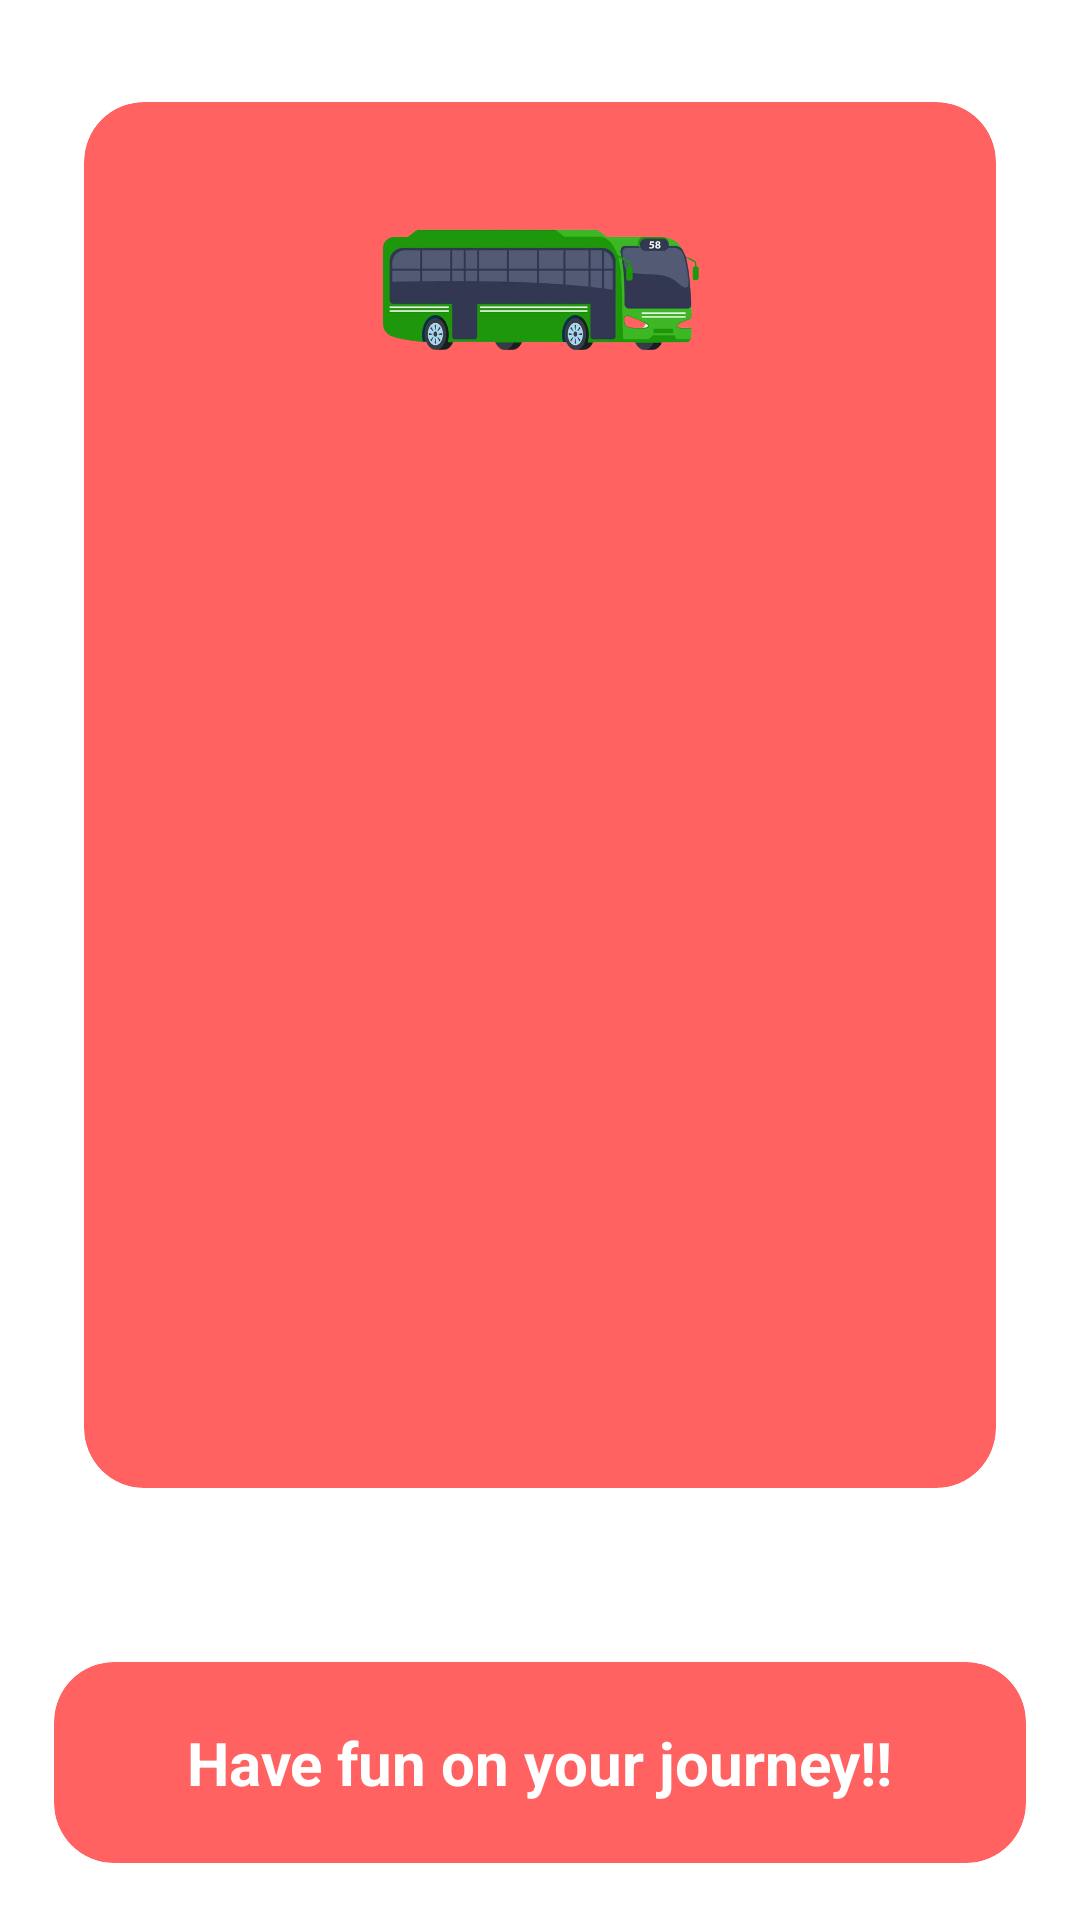

Icons on this 1080px x 1920px Android screen, each with its box as (x1, y1, x2, y2):
bus: (382, 229, 699, 350)
